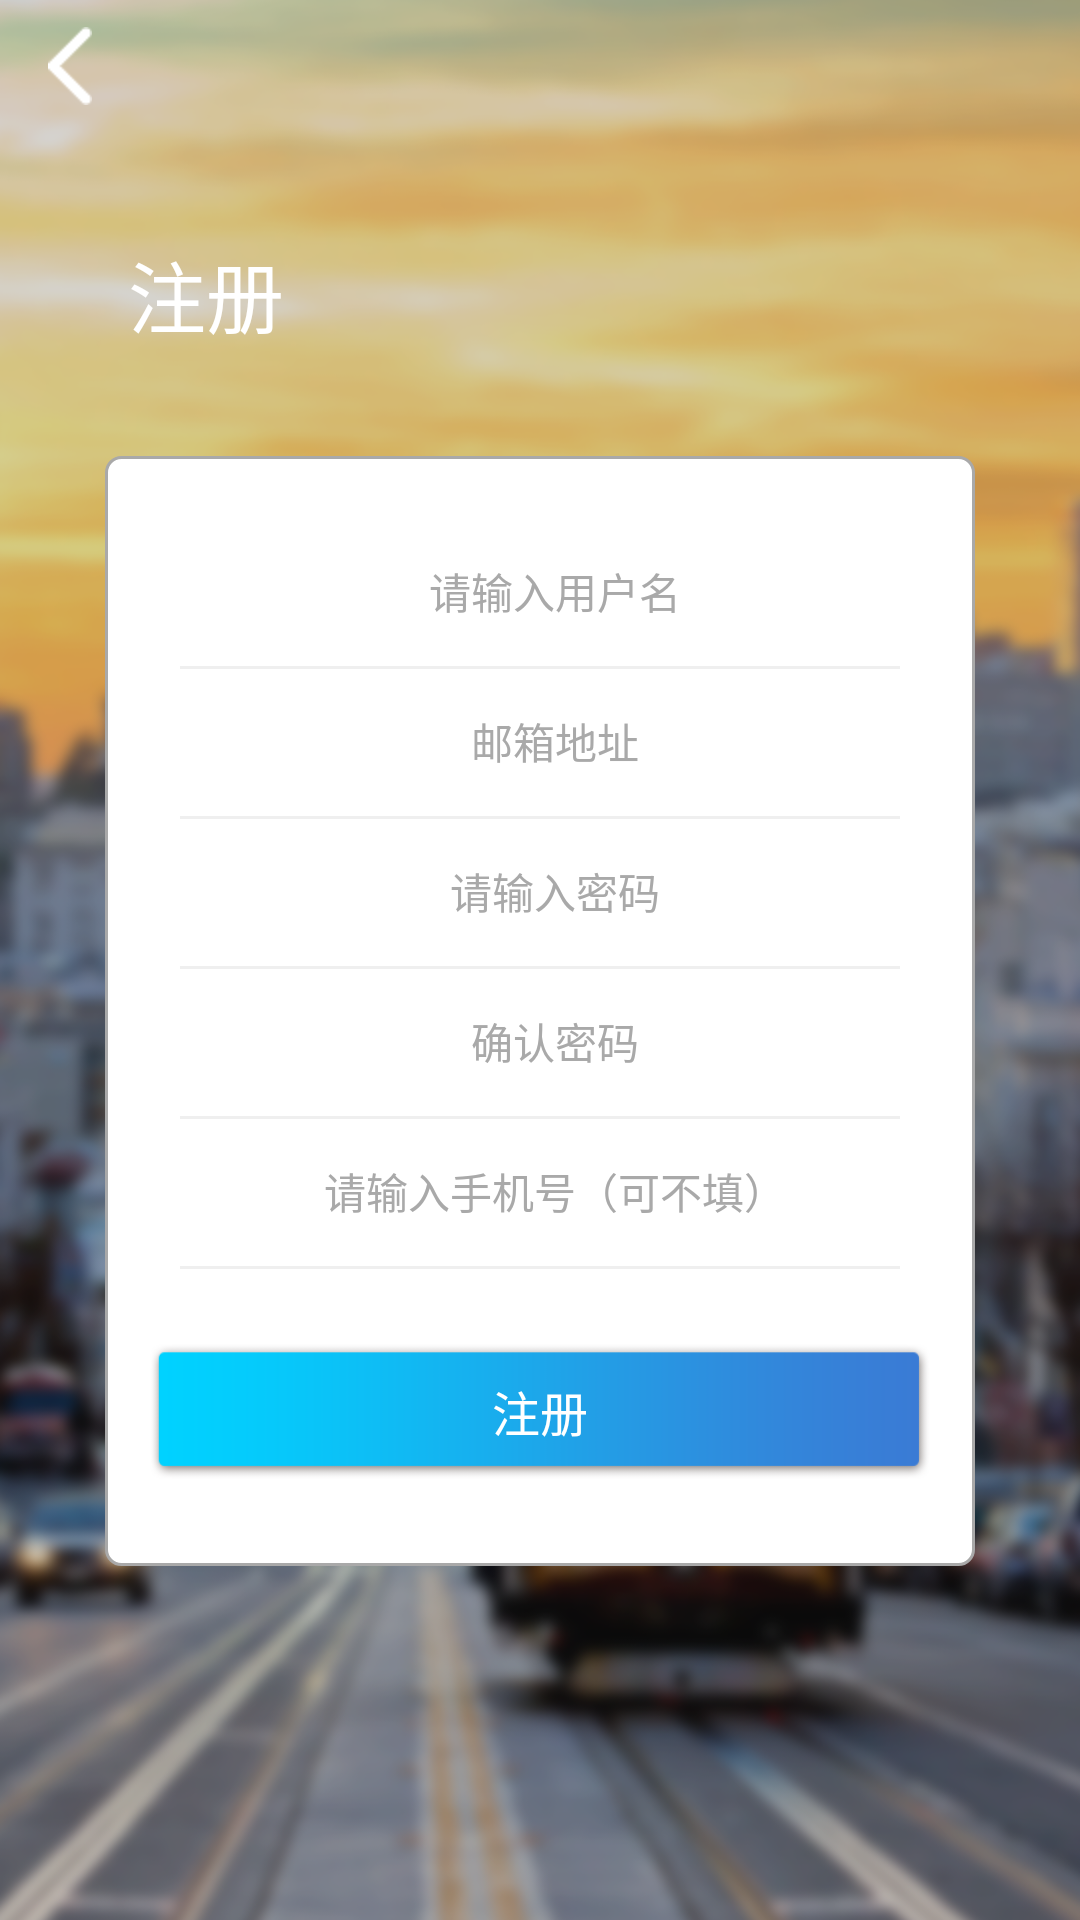

Point at icon controls on the screen. Image size 1080 × 1920, points as [x,y].
back: [70,66]
